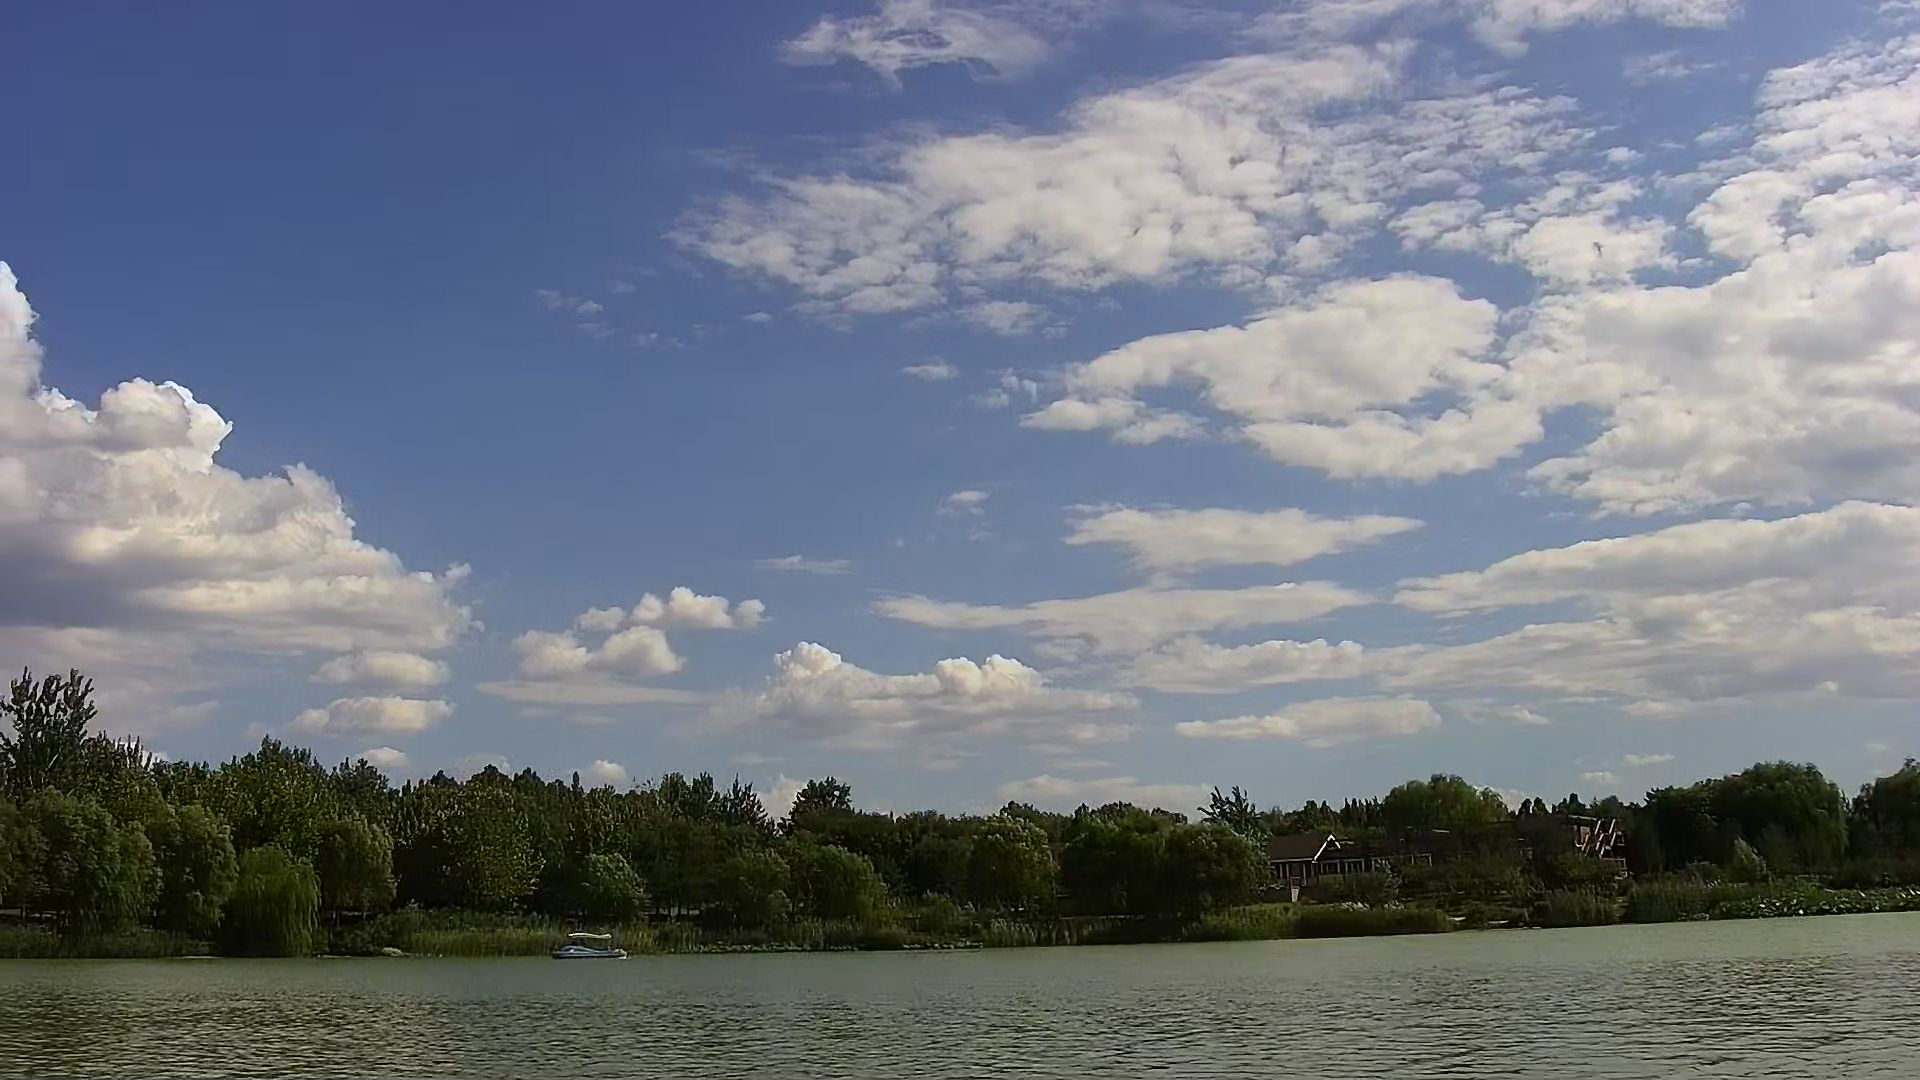boat: (541, 919, 644, 972)
